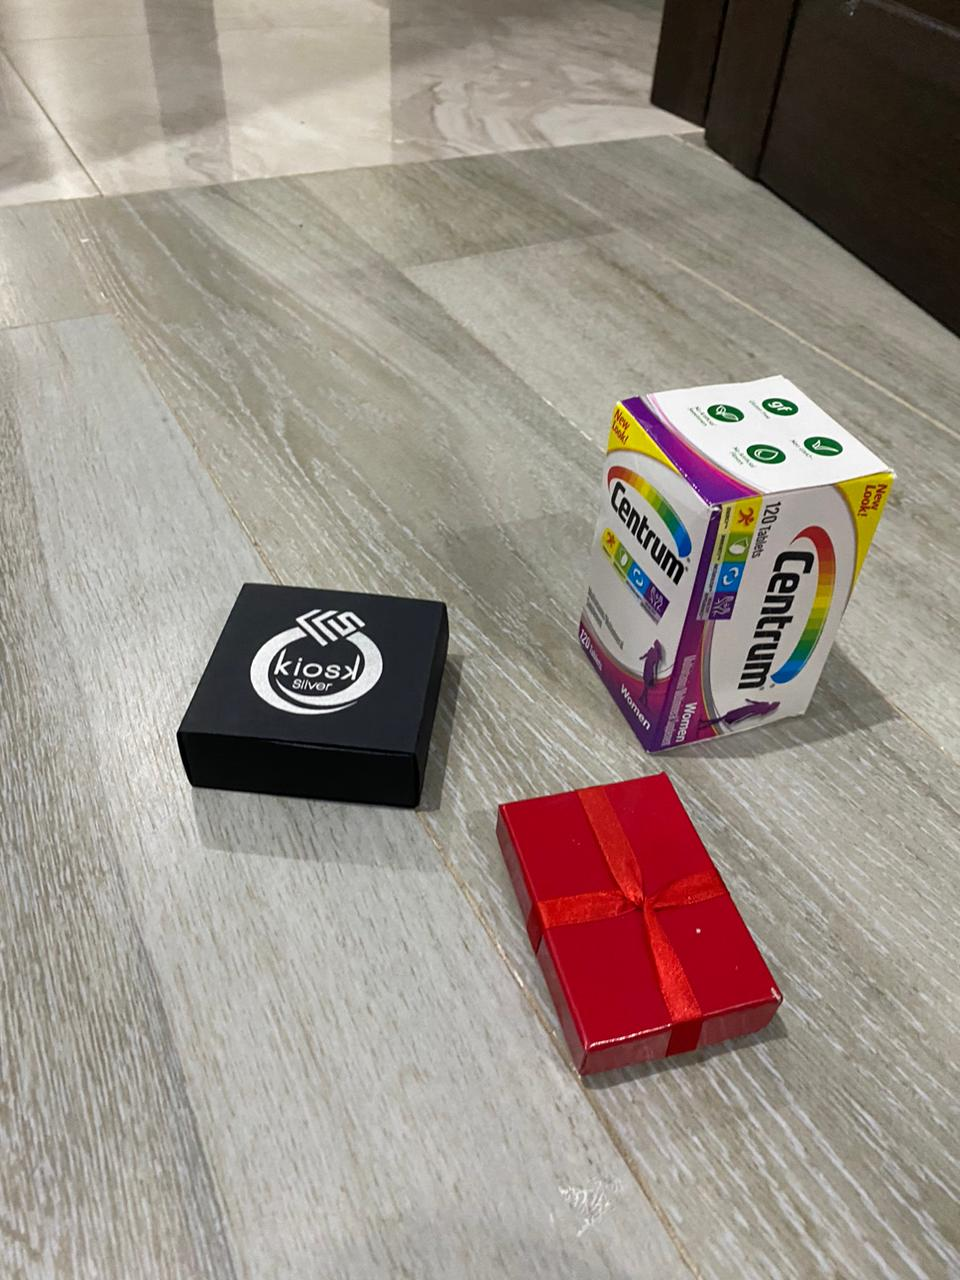Black Box: (495, 757, 791, 1082)
Centrum: (575, 371, 899, 757)
Red Box: (176, 578, 454, 820)
